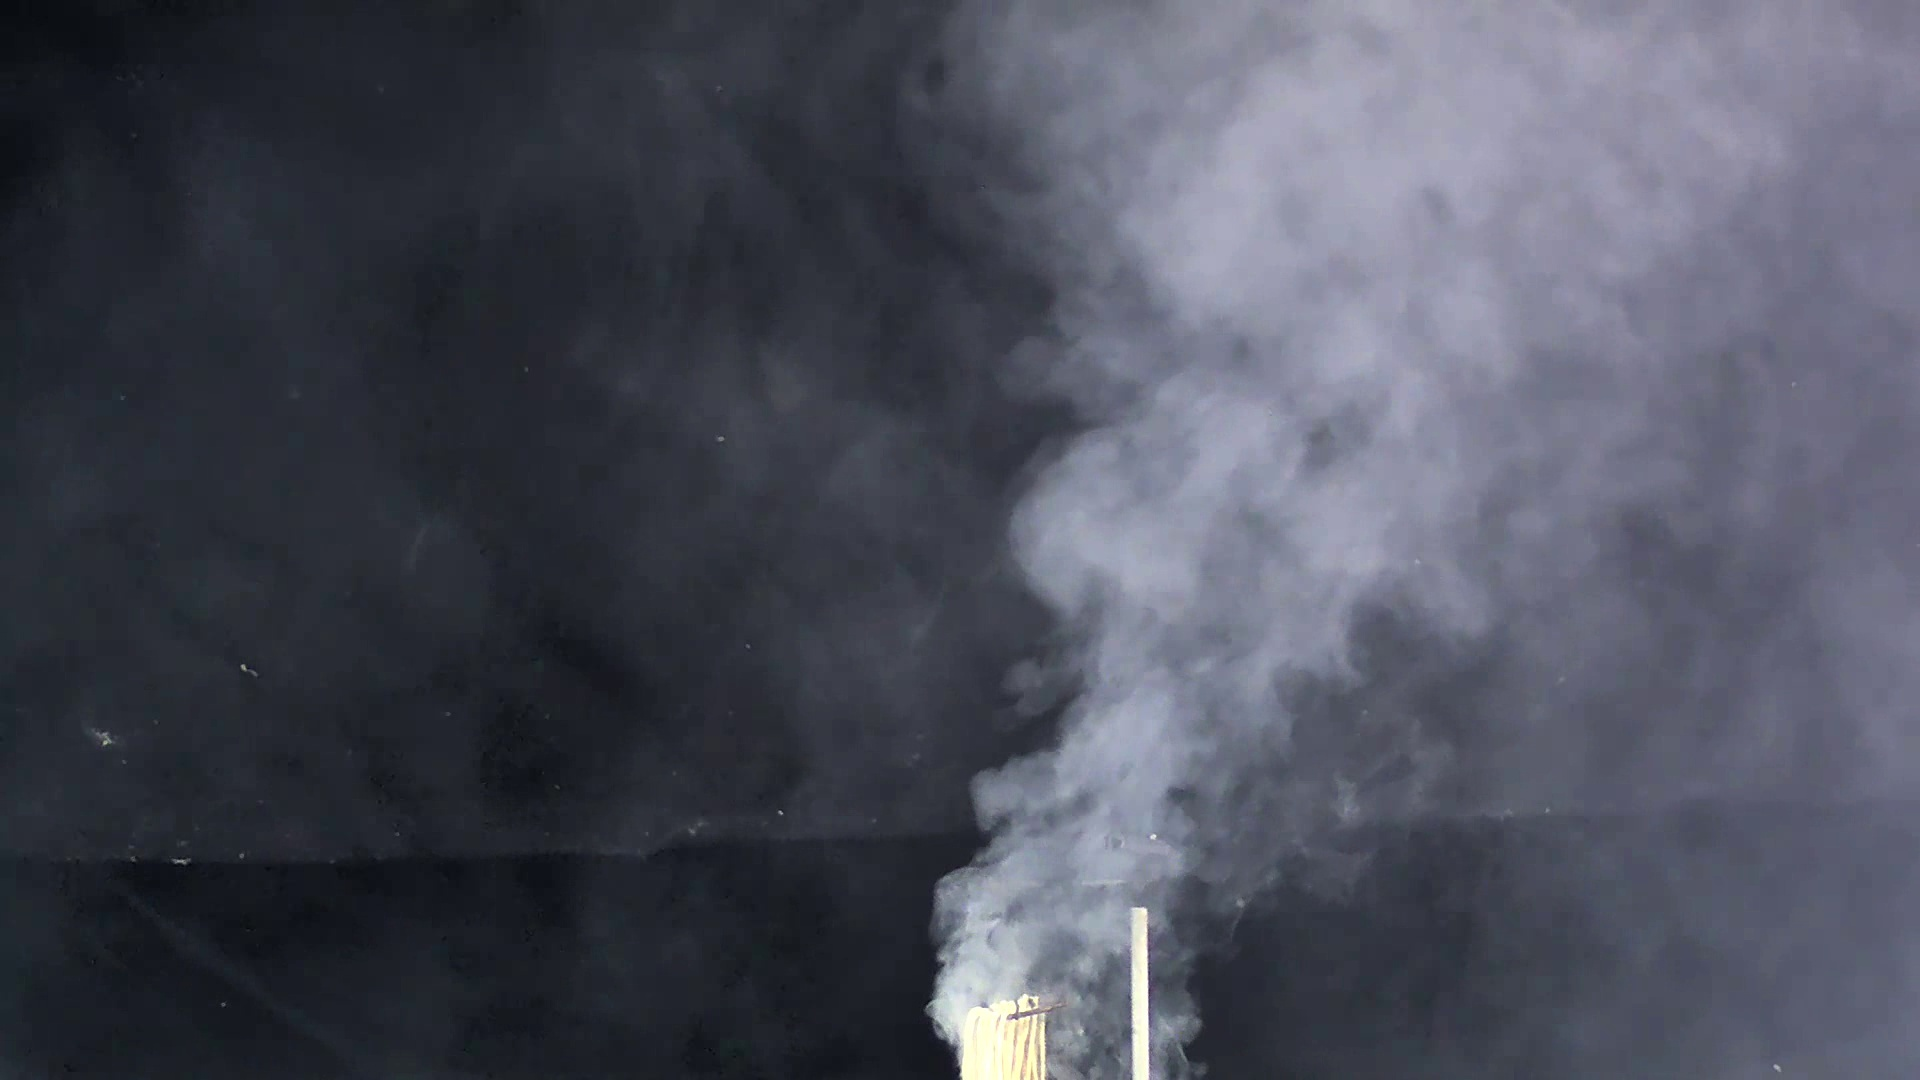smoke: (890, 316, 1531, 1021)
